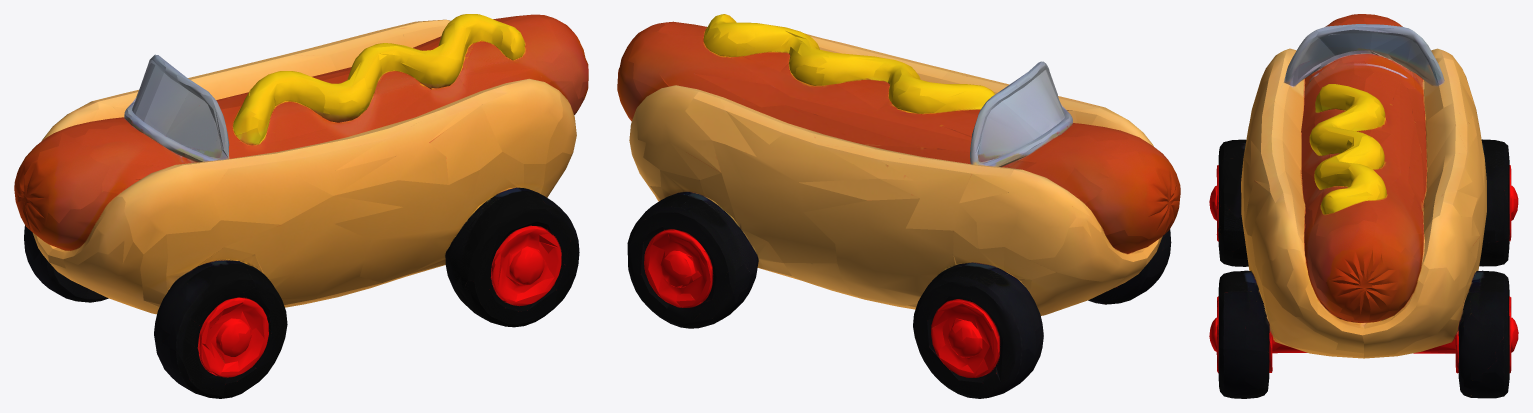
File: hotdog_wagon.glb
3 renders of one model, left to right at view 1: azimuth 30°, elevation 25°; view 2: azimuth 150°, elevation 25°; view 3: azimuth 270°, elevation 25°, orthographic. The views are drawn at different scales.
Size of the model in its own units: 1.9 by 0.8736 by 0.9929.
1 material, 1 textured.
